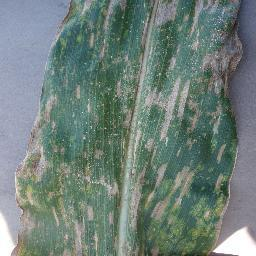Gray_Leaf_Spot: (120, 0, 246, 253), (59, 0, 120, 256), (12, 92, 59, 256), (40, 35, 58, 92)
